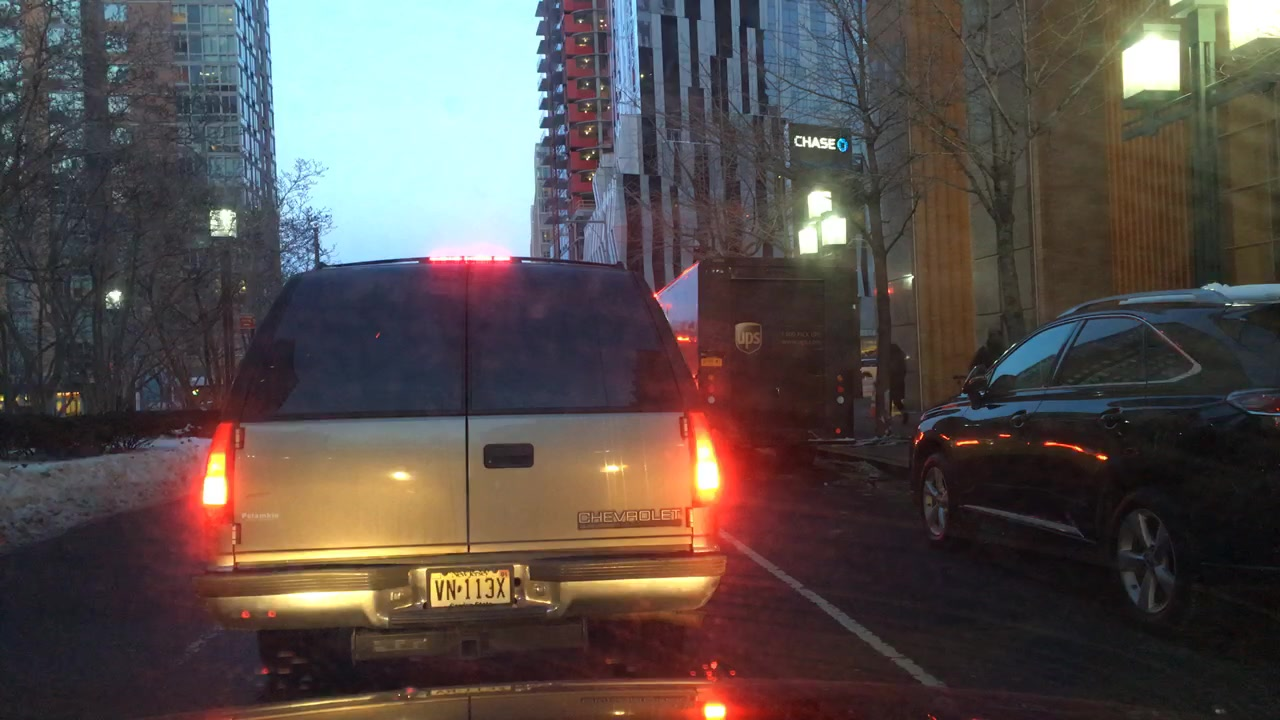licence: (423, 564, 518, 610)
